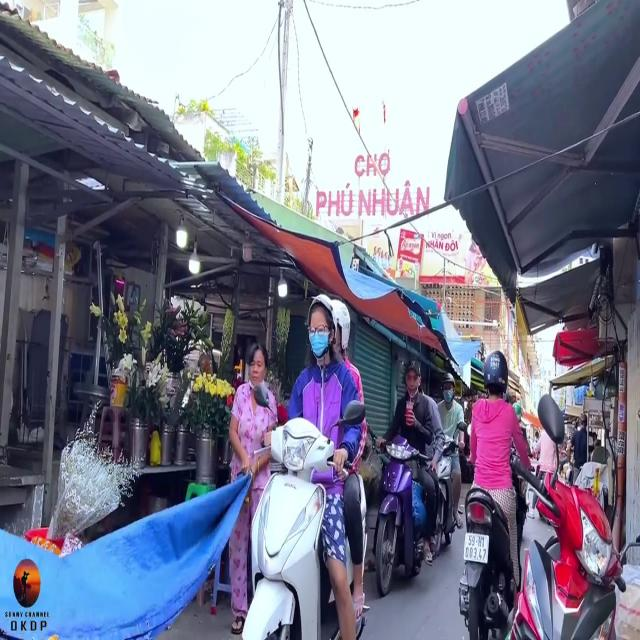bien_trang: (463, 532, 488, 566)
